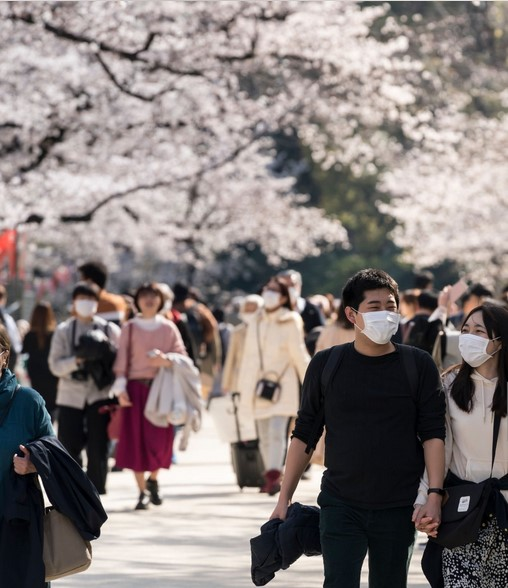face_no_mask: (131, 279, 166, 317)
face_with_mask: (345, 270, 400, 344), (459, 303, 502, 369), (257, 274, 292, 315), (70, 278, 102, 321)
